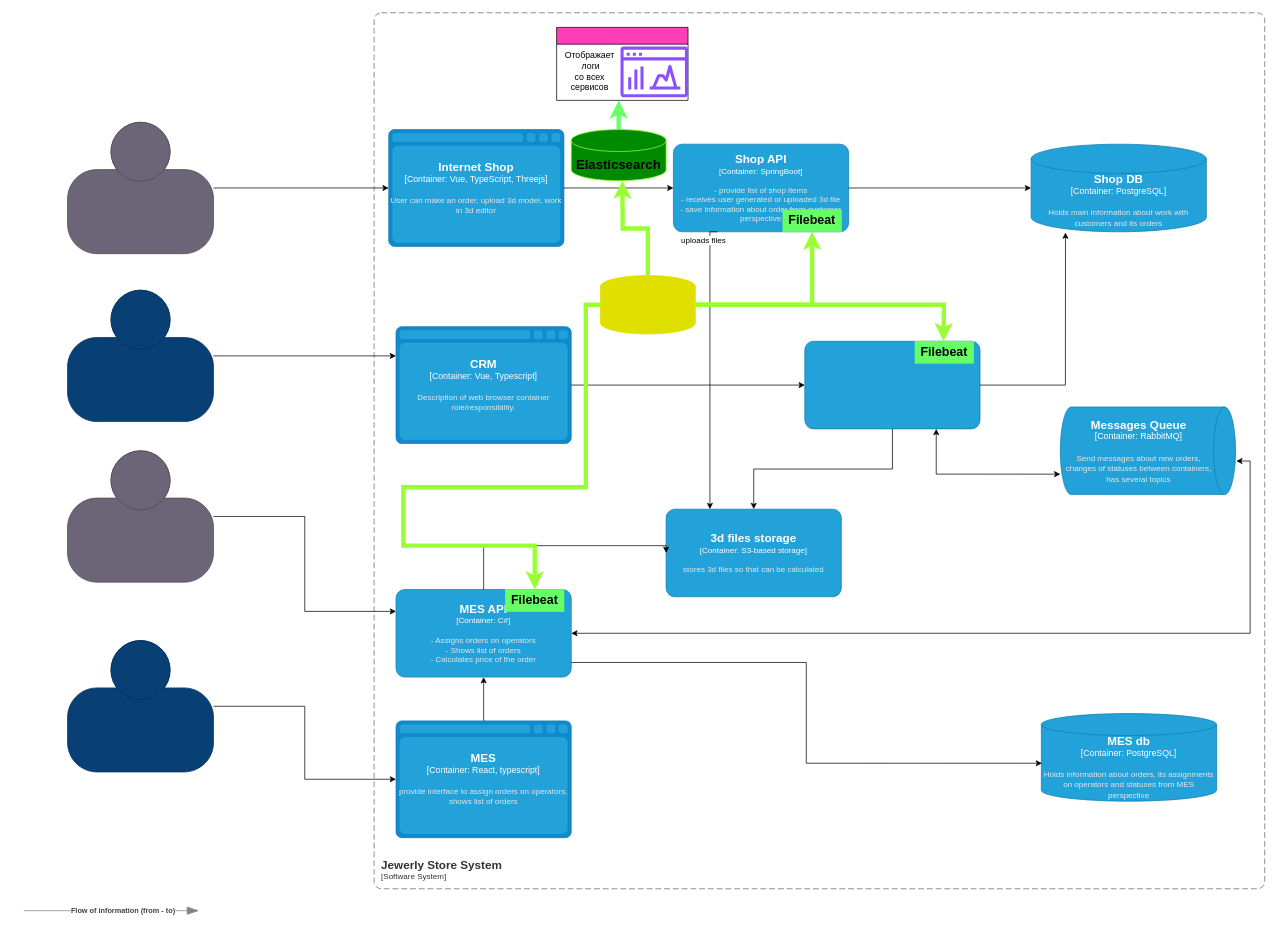
The diagram is 1278 pixels wide and 935 high, and some of its shapes have lost their labels. Each missing label, with the box of its shape:
API user [Person] Description of external person.: (67, 450, 214, 582)
CRM API [Container: SpringBoot] Description of container role/responsibility.: (804, 341, 980, 429)
Customer [Person] Description of external person.: (67, 122, 214, 254)
Kibana: (556, 27, 688, 100)
Logstash: (600, 275, 695, 334)
Operator [Person] Takes order in work, manufactures jewerly: (67, 640, 214, 772)
Seller [Person] Operates with order, confirms manufacturing for the user: (67, 289, 214, 422)
